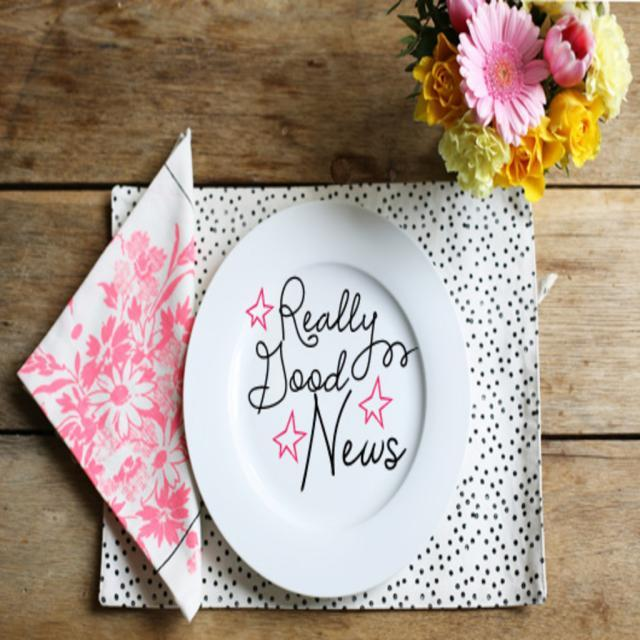ceramic plate: (174, 170, 526, 614)
